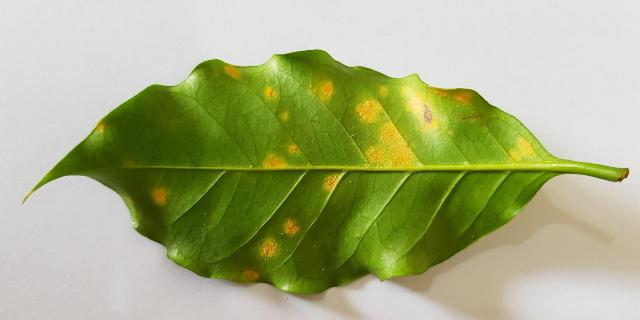miner: (402, 83, 471, 137), (364, 121, 414, 170), (355, 98, 382, 123), (260, 153, 293, 170), (512, 138, 535, 160), (312, 80, 334, 103), (223, 62, 248, 80), (323, 173, 343, 193), (89, 116, 105, 134), (260, 240, 276, 256), (284, 220, 299, 234), (153, 189, 166, 203), (244, 270, 259, 280), (264, 88, 276, 98), (288, 144, 299, 153), (281, 111, 288, 120), (379, 86, 386, 95)
